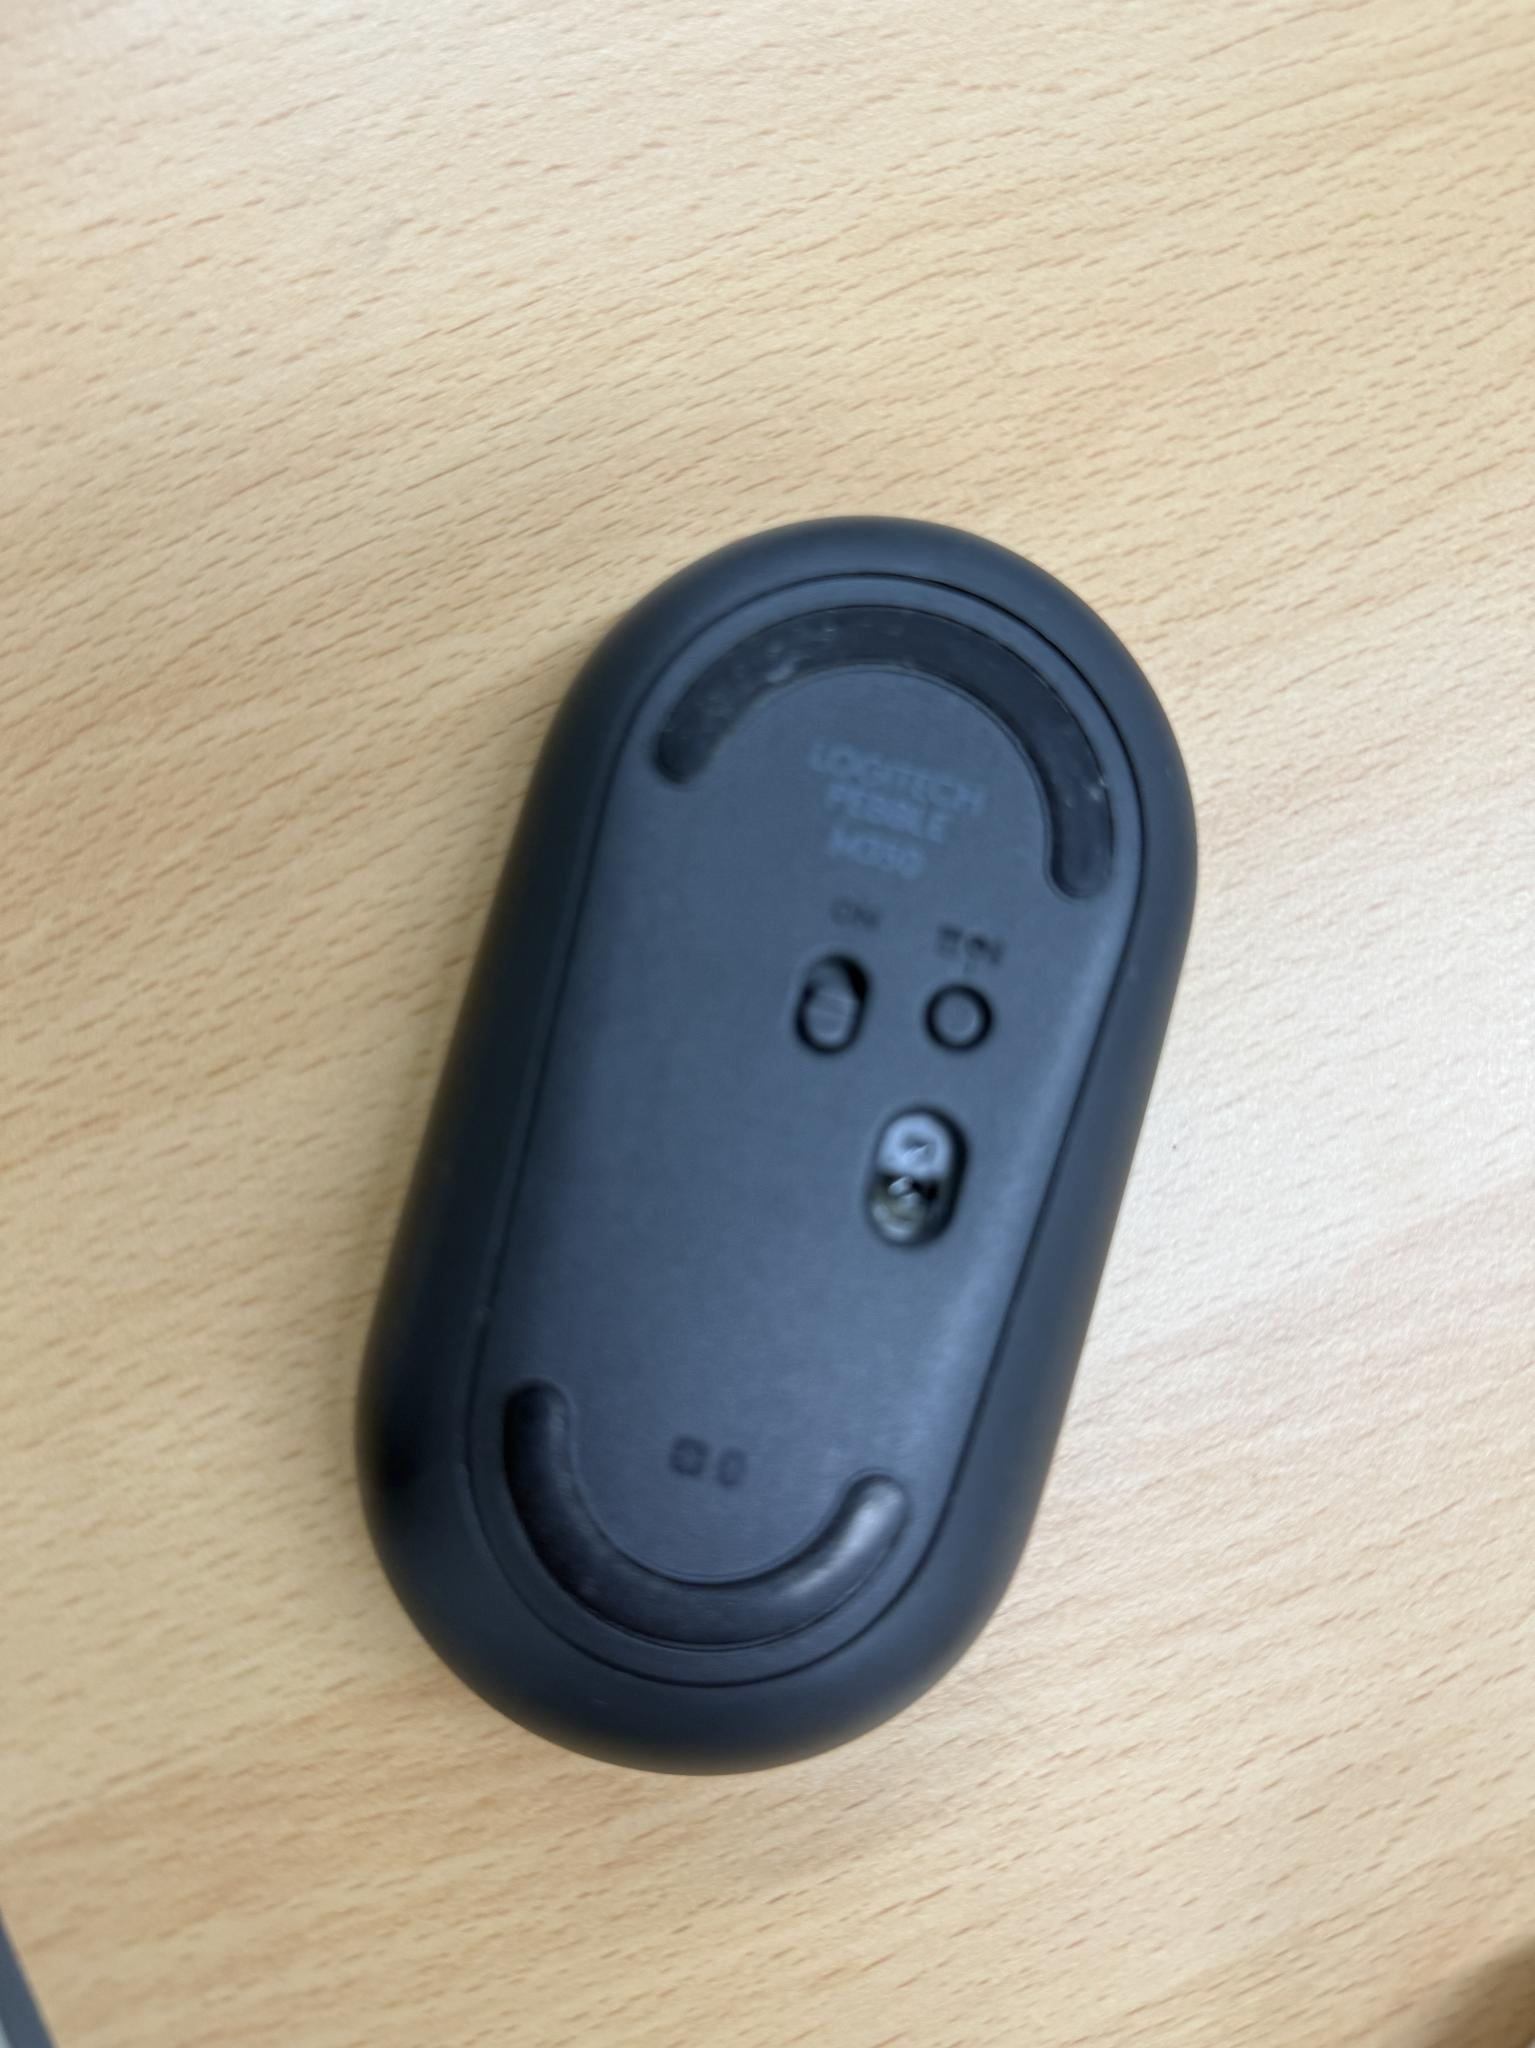back: (342, 506, 1200, 1792)
